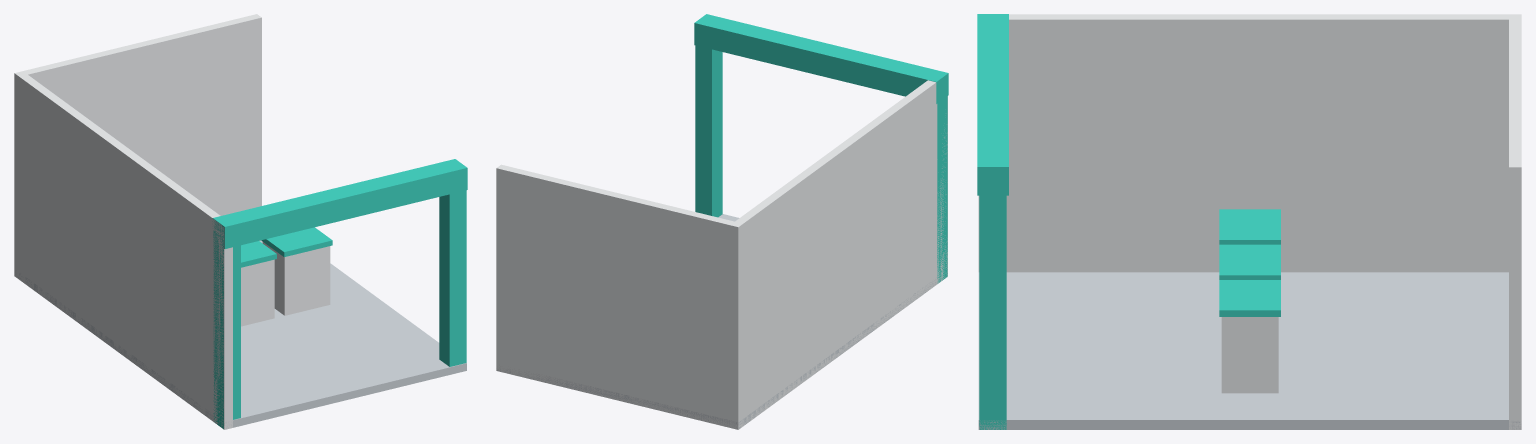
The picture shows the model from 3 angles, left to right: view 1: azimuth 30°, elevation 25°; view 2: azimuth 150°, elevation 25°; view 3: azimuth 270°, elevation 25°; orthographic projection. The views are drawn at different scales.
Visible parts, largest first — view 1: Exhibition Booth Concept; view 2: Exhibition Booth Concept; view 3: Exhibition Booth Concept.
Part boxes in pixels (<box>): Exhibition Booth Concept: <box>14,14,467,429</box>; Exhibition Booth Concept: <box>496,14,948,429</box>; Exhibition Booth Concept: <box>977,14,1521,429</box>.
Bounding box in the file's own units: 4 × 3.2 × 6.02.
